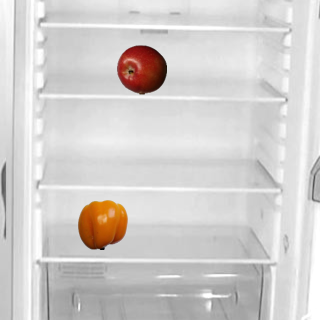Apple Braeburn: (116, 44, 166, 94)
Pepper Yellow: (77, 199, 127, 249)
